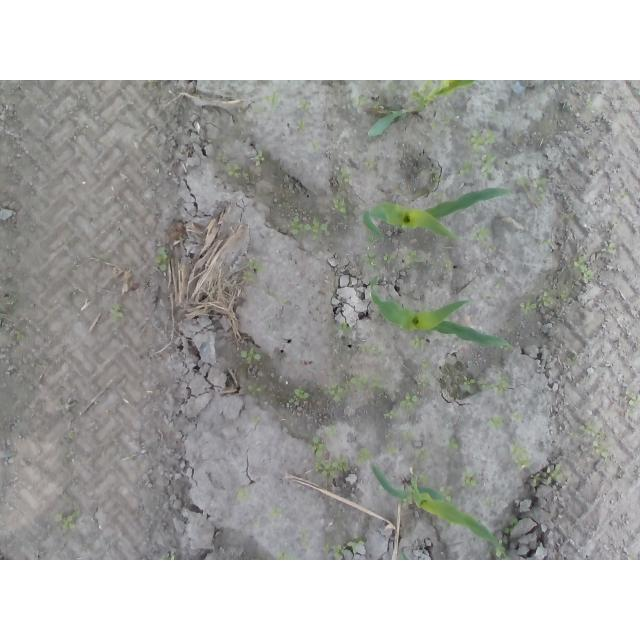Maize: (370, 461, 510, 559), (370, 274, 513, 349), (364, 187, 512, 241), (367, 80, 478, 140)
Weeds: (571, 421, 609, 464), (312, 435, 350, 478), (461, 375, 512, 398), (290, 213, 330, 239), (517, 176, 551, 204), (411, 80, 449, 104), (521, 288, 554, 314), (507, 442, 534, 471), (349, 371, 389, 390), (51, 509, 81, 532), (533, 462, 564, 483), (574, 254, 594, 282), (469, 131, 498, 150), (241, 261, 264, 284), (225, 162, 248, 183), (153, 246, 171, 272), (466, 228, 495, 244), (342, 535, 367, 553), (412, 361, 429, 387), (325, 382, 346, 402), (9, 293, 24, 319), (480, 155, 500, 174), (403, 248, 422, 268), (487, 412, 506, 432), (428, 115, 452, 130), (239, 349, 262, 364), (461, 471, 479, 490), (400, 394, 420, 411), (332, 198, 349, 217), (285, 390, 307, 404), (410, 335, 429, 351), (354, 449, 370, 468), (443, 436, 461, 452), (297, 529, 312, 548), (363, 251, 378, 270), (110, 300, 124, 320), (347, 96, 369, 108), (339, 166, 352, 186), (235, 484, 249, 502), (504, 517, 518, 535), (9, 329, 27, 343), (439, 486, 453, 503), (247, 383, 263, 397), (271, 504, 284, 521), (629, 392, 640, 412), (267, 93, 281, 108), (459, 161, 473, 175), (383, 251, 397, 265), (415, 449, 429, 463), (252, 153, 265, 168), (362, 345, 381, 355), (384, 409, 401, 420), (509, 411, 524, 423), (278, 552, 297, 561), (600, 244, 617, 254), (339, 323, 353, 334), (364, 158, 376, 170), (327, 424, 338, 437), (443, 258, 454, 271), (385, 446, 399, 456), (560, 289, 569, 304), (483, 497, 495, 508), (298, 101, 310, 112), (385, 80, 399, 89), (298, 119, 307, 133), (385, 432, 398, 441), (219, 151, 230, 161), (587, 98, 598, 107), (312, 139, 320, 151), (404, 429, 413, 439), (251, 417, 260, 426)
